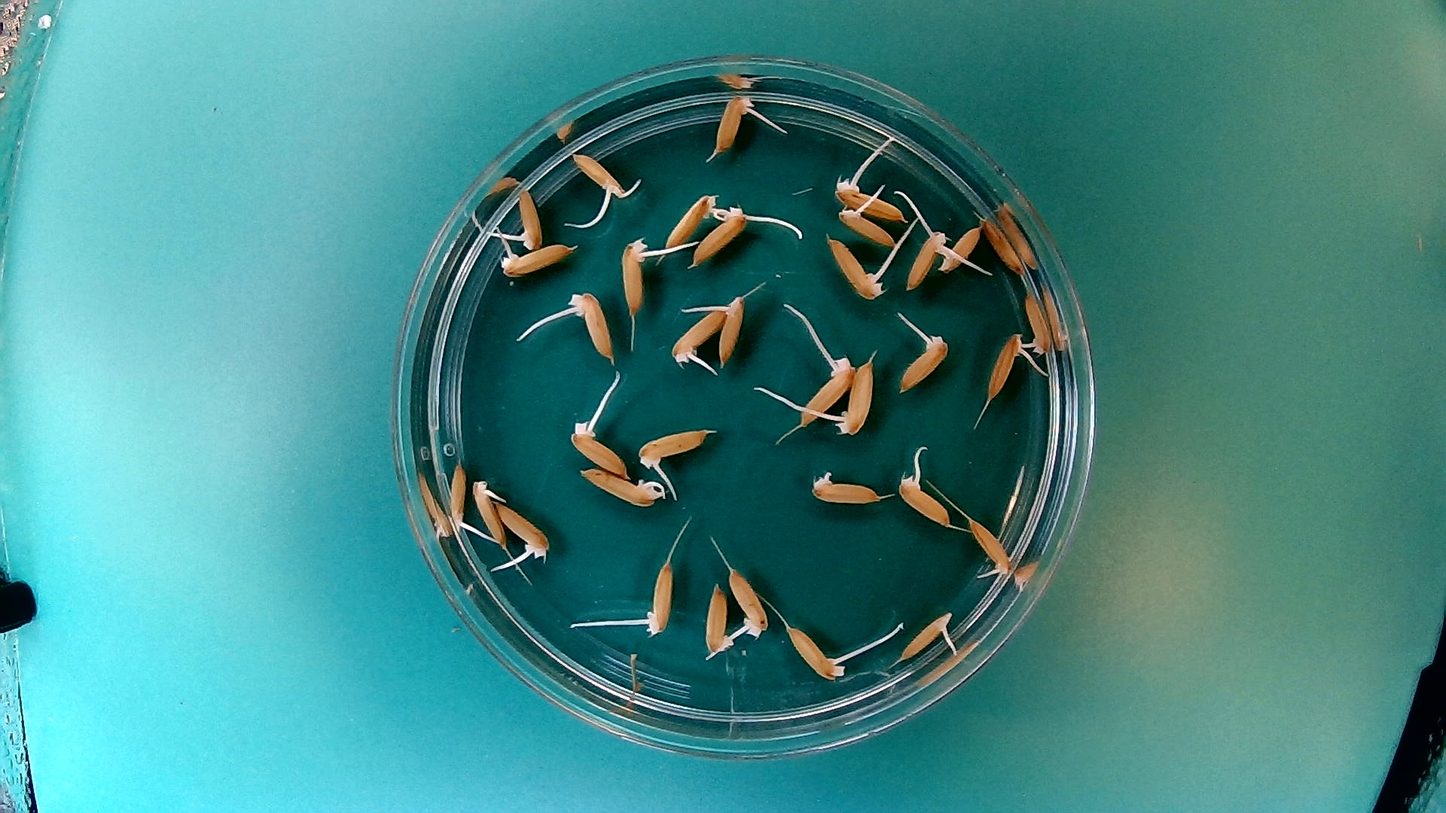no: (980, 216, 1026, 273)
yes: (795, 349, 855, 430), (569, 416, 631, 477), (669, 300, 725, 367), (828, 239, 886, 303), (832, 353, 875, 436), (833, 175, 905, 224), (578, 466, 663, 507), (691, 208, 748, 269), (785, 626, 846, 683), (895, 607, 958, 662), (568, 291, 616, 363), (895, 470, 953, 529), (496, 501, 551, 562), (727, 563, 770, 639), (636, 424, 708, 469), (980, 333, 1027, 400), (966, 516, 1015, 580), (831, 205, 904, 247), (639, 556, 676, 638), (575, 150, 632, 203), (895, 335, 945, 395), (806, 470, 883, 508), (499, 242, 578, 279), (663, 193, 715, 249), (470, 474, 506, 551), (906, 229, 948, 294), (1020, 284, 1056, 358), (715, 290, 749, 367), (713, 96, 757, 155), (619, 235, 650, 315), (701, 582, 733, 659), (513, 181, 544, 253), (942, 222, 981, 275), (447, 455, 469, 539)
